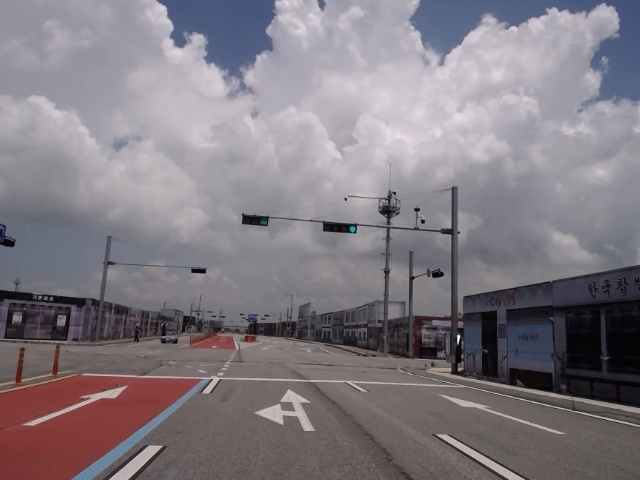straight_green_4: (325, 221, 356, 234)
